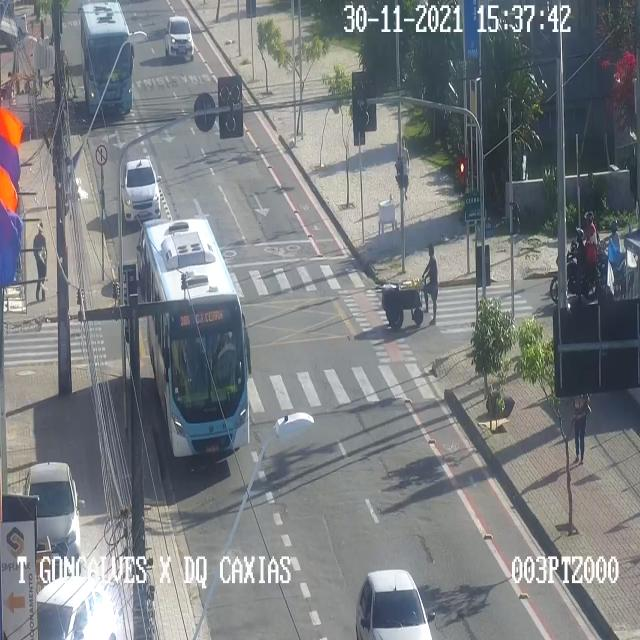Bus: (143, 217, 249, 459), (78, 1, 136, 115)
Car: (25, 461, 85, 560), (356, 571, 436, 639), (38, 575, 118, 639), (550, 225, 606, 306), (121, 156, 163, 220), (165, 14, 195, 56)
